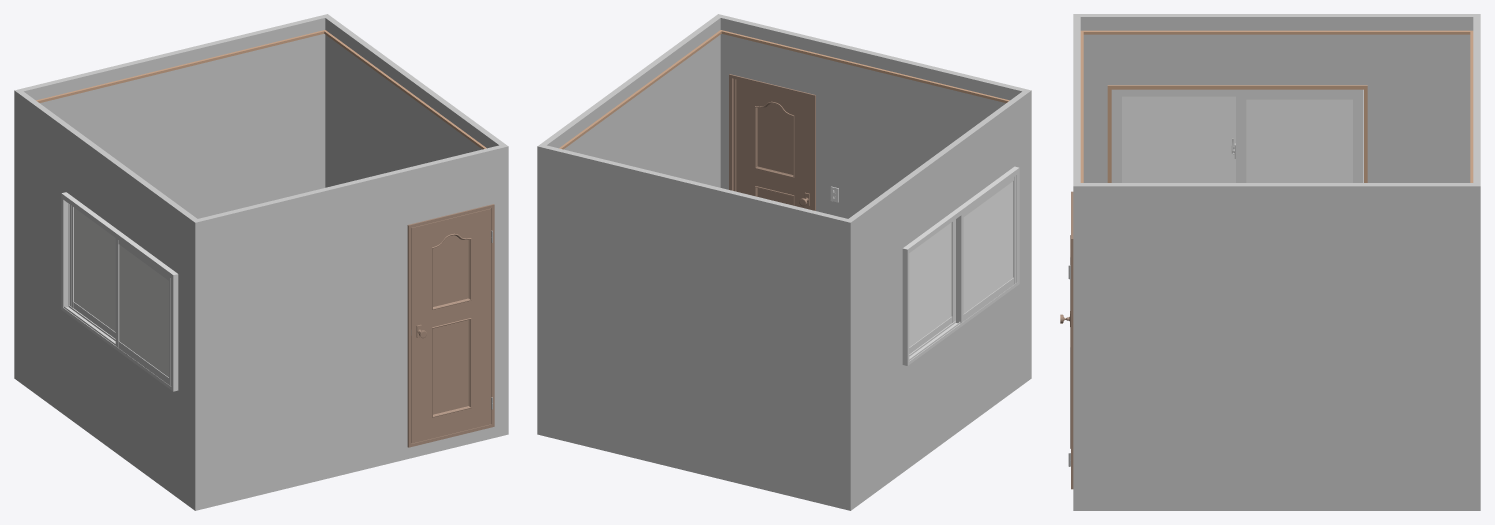
File: 170_部屋4畳半view.glb
3 renders of one model, left to right at view 1: azimuth 30°, elevation 25°; view 2: azimuth 150°, elevation 25°; view 3: azimuth 270°, elevation 25°, orthographic. The views are drawn at different scales.
Parts seen in each view (by area): view 1: 南壁, 西壁, 北壁, 戸, 東壁, 左.001, 右.001; view 2: 北壁, 西壁, 南壁, 東壁, 戸, 左.001, 右.001; view 3: 東壁, 西壁, 右.001, 左.001, 南壁, 北壁.
Part boxes in pixels (bbox=[...]): 南壁: bbox=[192, 144, 508, 510]; 西壁: bbox=[17, 91, 197, 508]; 北壁: bbox=[14, 14, 330, 380]; 戸: bbox=[411, 208, 492, 443]; 東壁: bbox=[324, 16, 504, 187]; 左.001: bbox=[115, 238, 171, 386]; 右.001: bbox=[69, 204, 115, 338]; 北壁: bbox=[537, 144, 853, 510]; 西壁: bbox=[848, 91, 1028, 508]; 南壁: bbox=[715, 14, 1031, 380]; 東壁: bbox=[541, 16, 721, 187]; 戸: bbox=[736, 79, 812, 209]; 左.001: bbox=[956, 174, 1017, 323]; 右.001: bbox=[909, 219, 955, 353]; 東壁: bbox=[1080, 183, 1473, 510]; 西壁: bbox=[1080, 14, 1473, 182]; 右.001: bbox=[1234, 94, 1359, 182]; 左.001: bbox=[1115, 94, 1235, 182]; 南壁: bbox=[1068, 14, 1083, 510]; 北壁: bbox=[1470, 14, 1480, 510].
Size of the model in its own units: 2.77 by 2.4 by 2.82.
